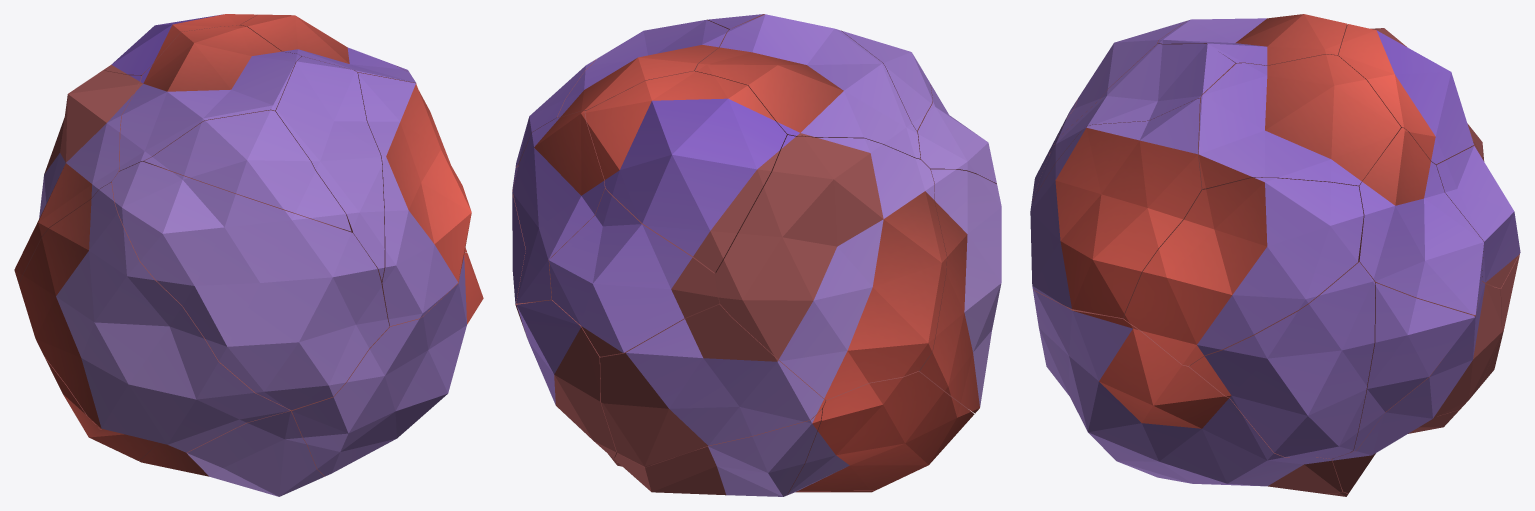
File: planet2Fract.fbx
3 views of the same model, side by side, from view 1: azimuth 30°, elevation 25°; view 2: azimuth 150°, elevation 25°; view 3: azimuth 270°, elevation 25° (orthographic). The views are drawn at different scales.
Parts seen in each view (by area): view 1: Icosphere.042_cell.014, Icosphere.042_cell, Icosphere.042_cell.017, Icosphere.042_cell.005, Icosphere.042_cell.019, Icosphere.042_cell.009, Icosphere.042_cell.013, Icosphere.042_cell.007, Icosphere.042_cell.002, Icosphere.042_cell.006, Icosphere.042_cell.010, Icosphere.042_cell.012; view 2: Icosphere.042_cell.007, Icosphere.042_cell.010, Icosphere.042_cell.008, Icosphere.042_cell.019, Icosphere.042_cell.004, Icosphere.042_cell.012, Icosphere.042_cell, Icosphere.042_cell.003, Icosphere.042_cell.016, Icosphere.042_cell.011, Icosphere.042_cell.006, Icosphere.042_cell.014 (+3 smaller); view 3: Icosphere.042_cell.015, Icosphere.042_cell.005, Icosphere.042_cell.017, Icosphere.042_cell.006, Icosphere.042_cell.001, Icosphere.042_cell.003, Icosphere.042_cell.010, Icosphere.042_cell.018, Icosphere.042_cell.011, Icosphere.042_cell.009, Icosphere.042_cell.019, Icosphere.042_cell.004 (+2 smaller).
Boxes of the visible parts, x1,y1,x2,y2 form: Icosphere.042_cell.014: (112, 161, 389, 410); Icosphere.042_cell: (19, 182, 289, 452); Icosphere.042_cell.017: (357, 72, 471, 326); Icosphere.042_cell.005: (291, 252, 483, 476); Icosphere.042_cell.019: (119, 25, 301, 171); Icosphere.042_cell.009: (275, 56, 384, 281); Icosphere.042_cell.013: (144, 110, 351, 231); Icosphere.042_cell.007: (14, 70, 141, 283); Icosphere.042_cell.002: (139, 410, 324, 496); Icosphere.042_cell.006: (240, 14, 415, 83); Icosphere.042_cell.010: (103, 14, 257, 75); Icosphere.042_cell.012: (44, 356, 158, 460); Icosphere.042_cell.007: (715, 135, 946, 399); Icosphere.042_cell.010: (585, 71, 786, 272); Icosphere.042_cell.008: (600, 303, 825, 467); Icosphere.042_cell.019: (695, 14, 920, 159); Icosphere.042_cell.004: (548, 189, 719, 356); Icosphere.042_cell.012: (786, 371, 974, 495); Icosphere.042_cell: (919, 169, 1001, 413); Icosphere.042_cell.003: (513, 110, 606, 303); Icosphere.042_cell.016: (614, 408, 822, 496); Icosphere.042_cell.011: (516, 300, 616, 461); Icosphere.042_cell.006: (557, 19, 728, 117); Icosphere.042_cell.014: (917, 84, 996, 183); Icosphere.042_cell.015: (1123, 177, 1363, 365); Icosphere.042_cell.005: (1033, 289, 1342, 493); Icosphere.042_cell.017: (1030, 98, 1202, 318); Icosphere.042_cell.006: (1198, 54, 1400, 189); Icosphere.042_cell.001: (1189, 262, 1375, 458); Icosphere.042_cell.003: (1358, 127, 1483, 314); Icosphere.042_cell.010: (1338, 24, 1473, 164); Icosphere.042_cell.018: (1350, 282, 1474, 452); Icosphere.042_cell.011: (1332, 281, 1502, 493); Icosphere.042_cell.009: (1031, 43, 1235, 204); Icosphere.042_cell.019: (1157, 14, 1347, 65); Icosphere.042_cell.004: (1436, 142, 1520, 288).
Bounding box in the file's own units: 148 × 142 × 146.
